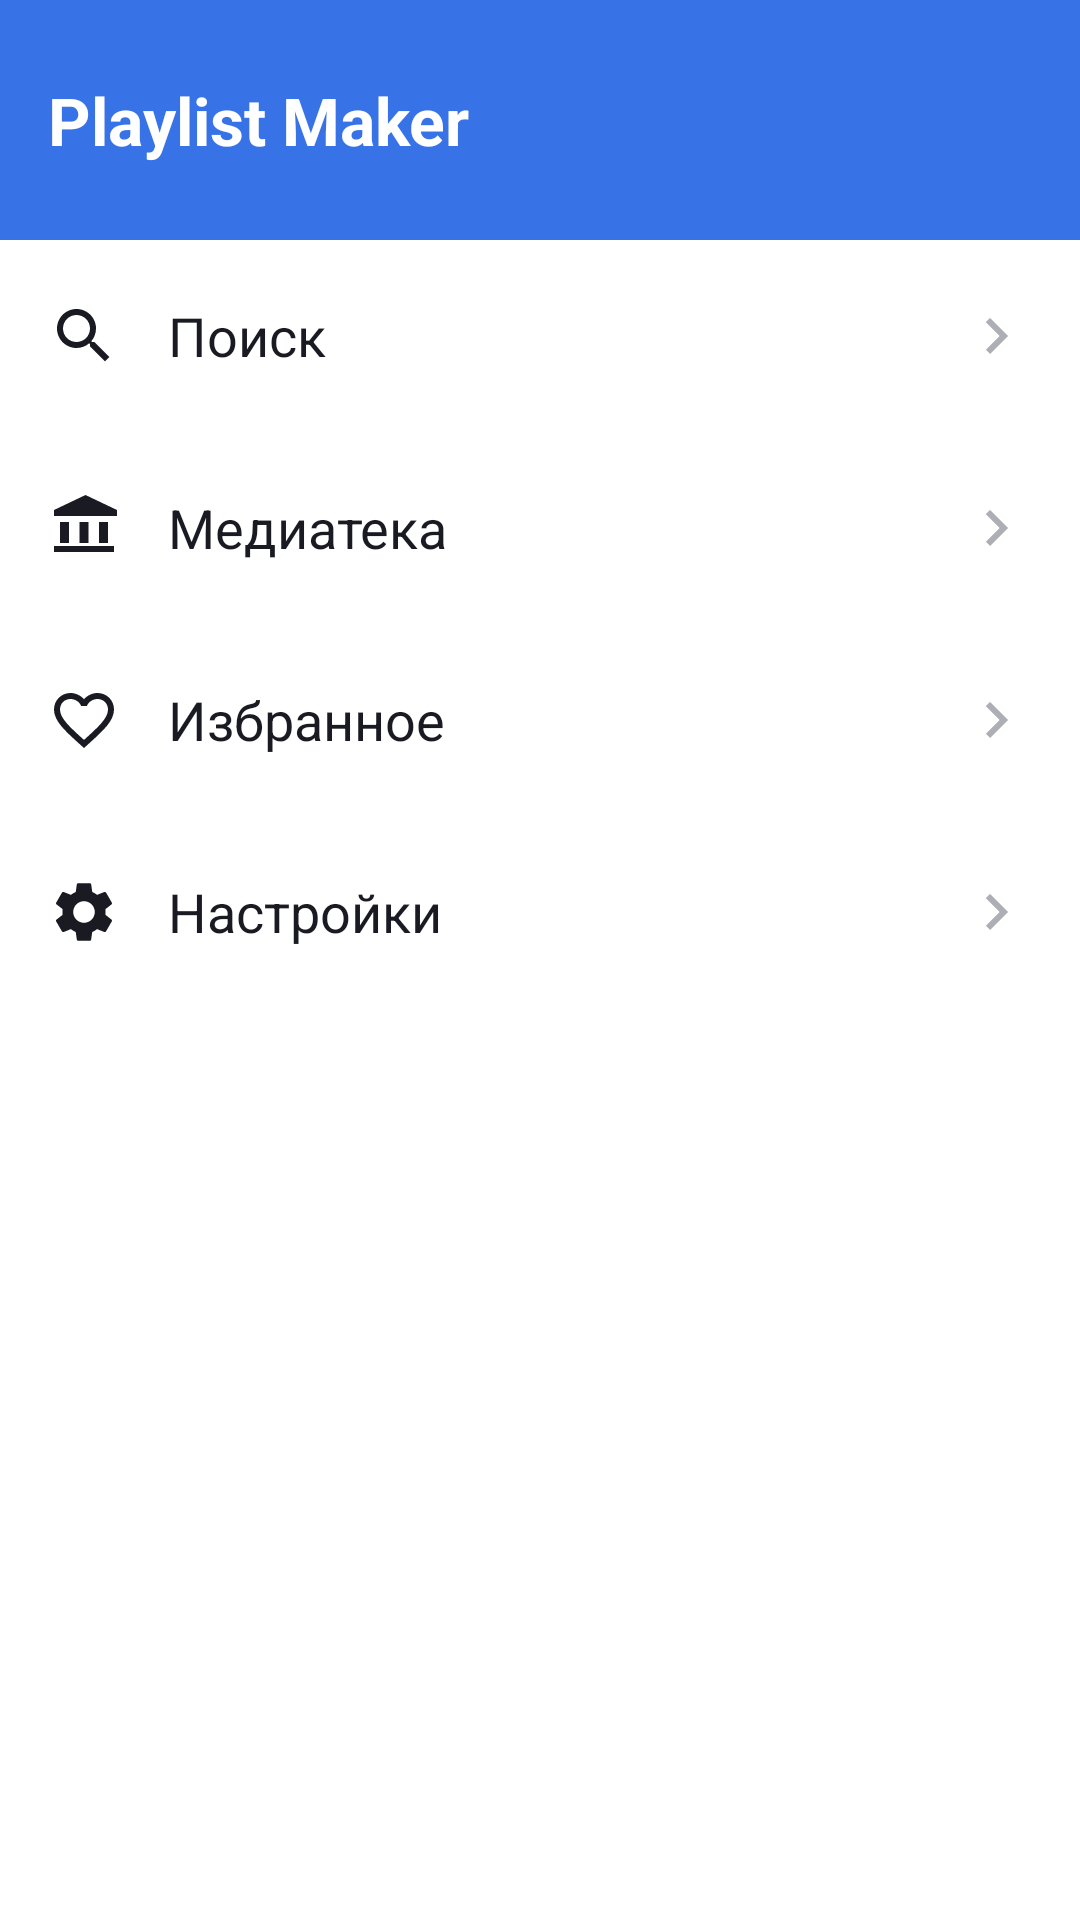

Named icons in this screenshot (1080x1920) and their centers, (x=x, y=y):
arrow forward: (x=997, y=336), (x=997, y=528), (x=997, y=720), (x=997, y=912)
favorites: (x=84, y=720)
search: (x=83, y=335)
settings: (x=84, y=912)
